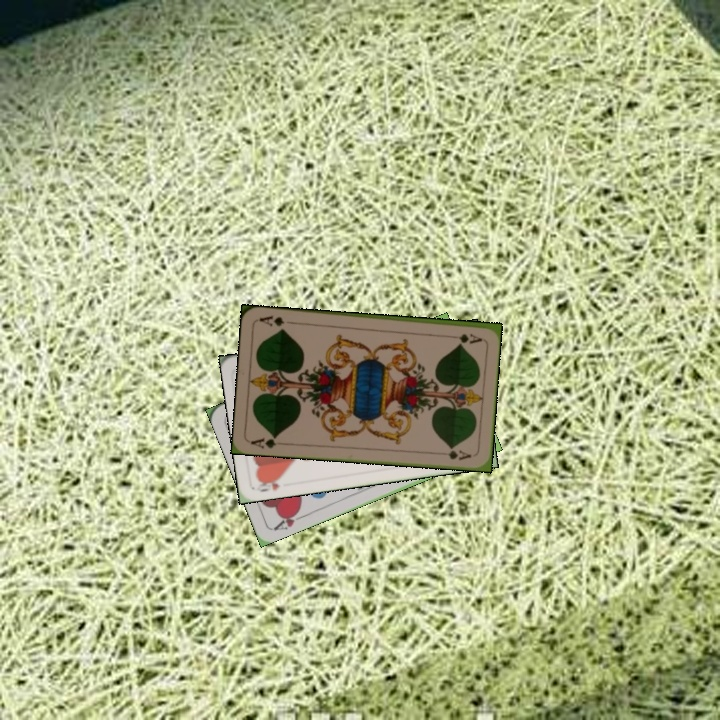GA: (247, 432, 288, 451), (444, 329, 484, 345)
HA: (269, 506, 308, 534)
HO: (253, 473, 285, 495)
